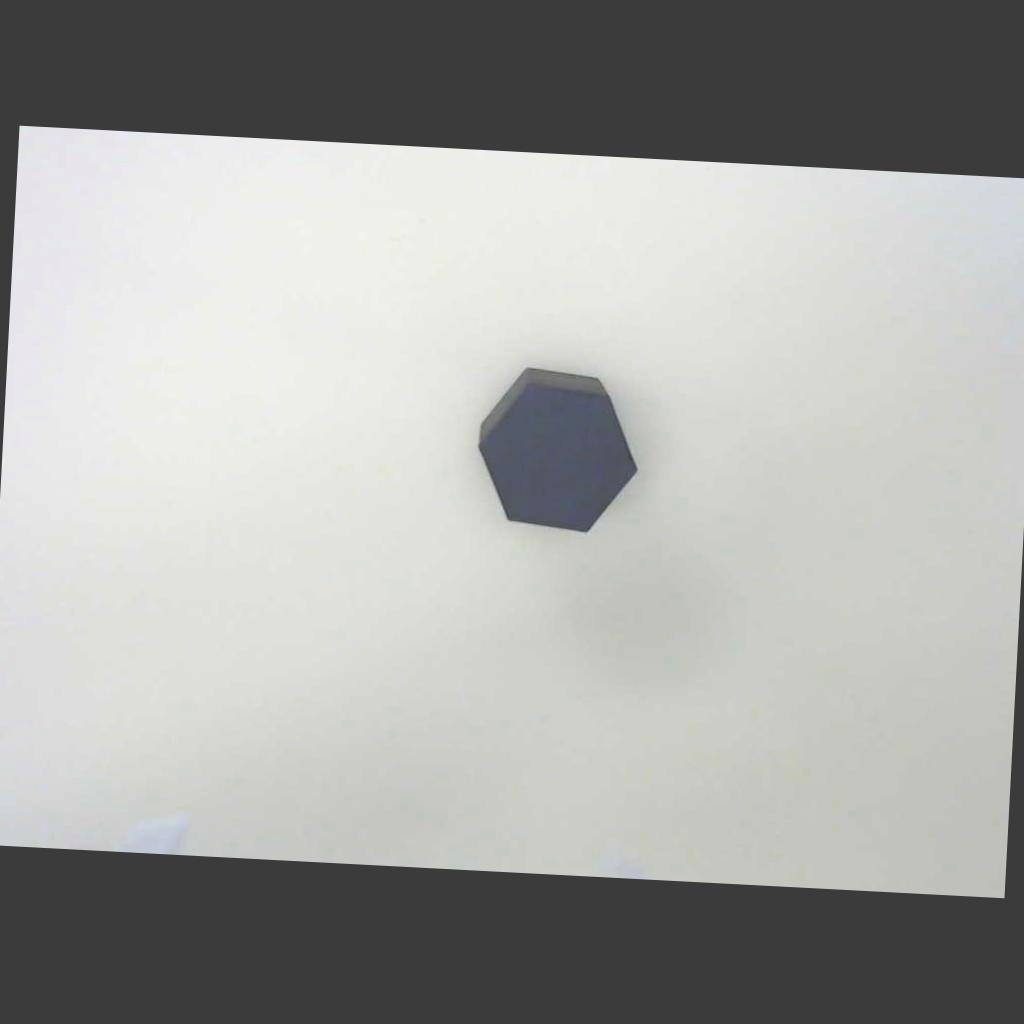hexagon: (447, 343, 670, 554)
